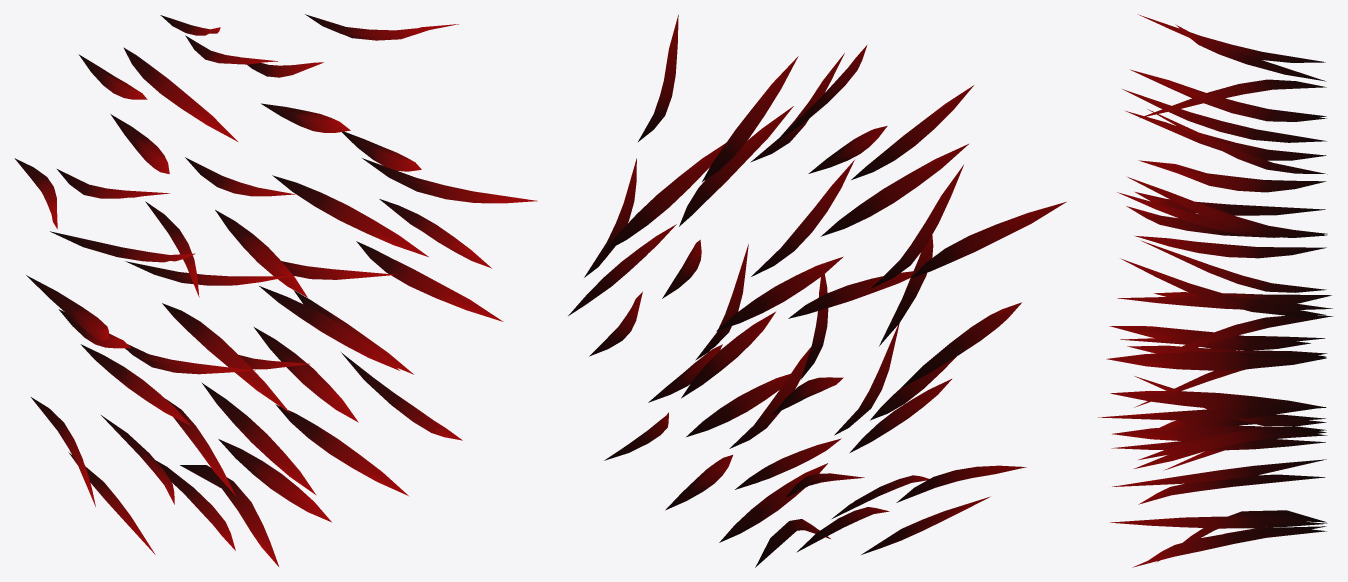
The model's file is GrassUltraMegaCool.fbx.
The picture shows the model from 3 angles, left to right: view 1: azimuth 30°, elevation 25°; view 2: azimuth 150°, elevation 25°; view 3: azimuth 270°, elevation 25°; orthographic projection. The views are drawn at different scales.
Visible parts, largest first — view 1: Grass; view 2: Grass; view 3: Grass.
Part boxes in pixels (box(x1,y1,x2,y2)): Grass: box(14, 14, 537, 566); Grass: box(568, 14, 1066, 567); Grass: box(1098, 14, 1333, 567).
Size of the model in its own units: 2.14 by 0.9921 by 2.38.
